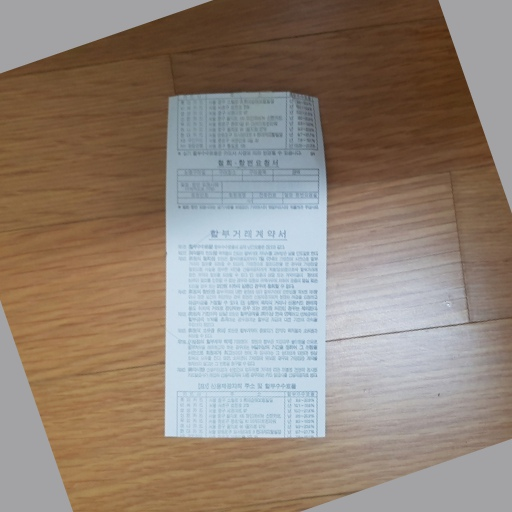Paper_2: (148, 90, 353, 448)
